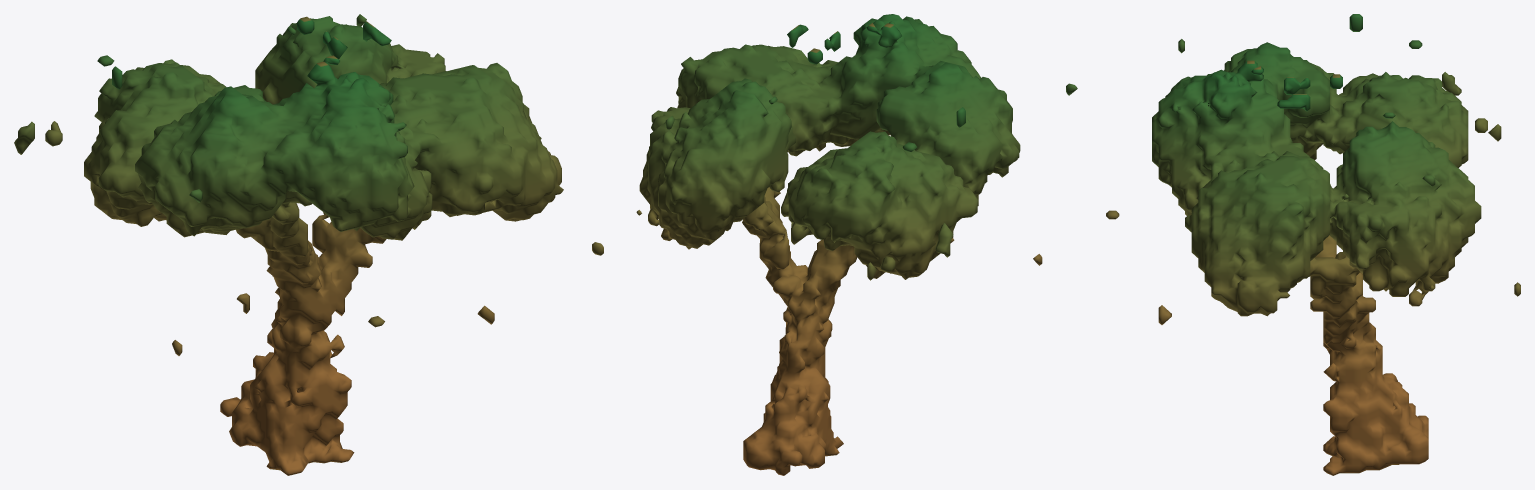
Rendered from gen9_colored.obj.
The picture shows the model from 3 angles, left to right: view 1: azimuth 30°, elevation 25°; view 2: azimuth 150°, elevation 25°; view 3: azimuth 270°, elevation 25°; orthographic projection. The views are drawn at different scales.
Bounding box in the file's own units: 63 × 64 × 63.
Materials: 1 (1 with a texture image).
